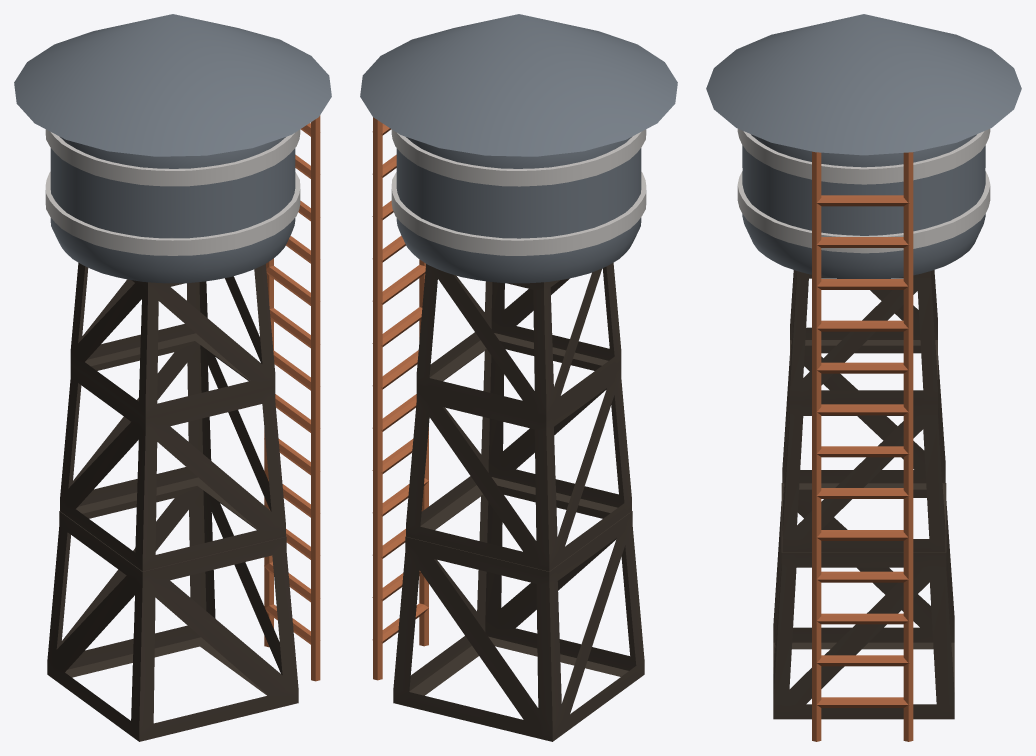
File: Cilo.fbx
The picture shows the model from 3 angles, left to right: view 1: azimuth 30°, elevation 25°; view 2: azimuth 150°, elevation 25°; view 3: azimuth 270°, elevation 25°; orthographic projection.
Visible parts, largest first — view 1: CiLo; view 2: CiLo; view 3: CiLo.
Boxes of the visible parts, <box> form: CiLo: <box>14,14,331,741</box>; CiLo: <box>360,14,677,741</box>; CiLo: <box>706,14,1021,741</box>.
Bounding box in the file's own units: 3.42 × 7.99 × 3.42.
